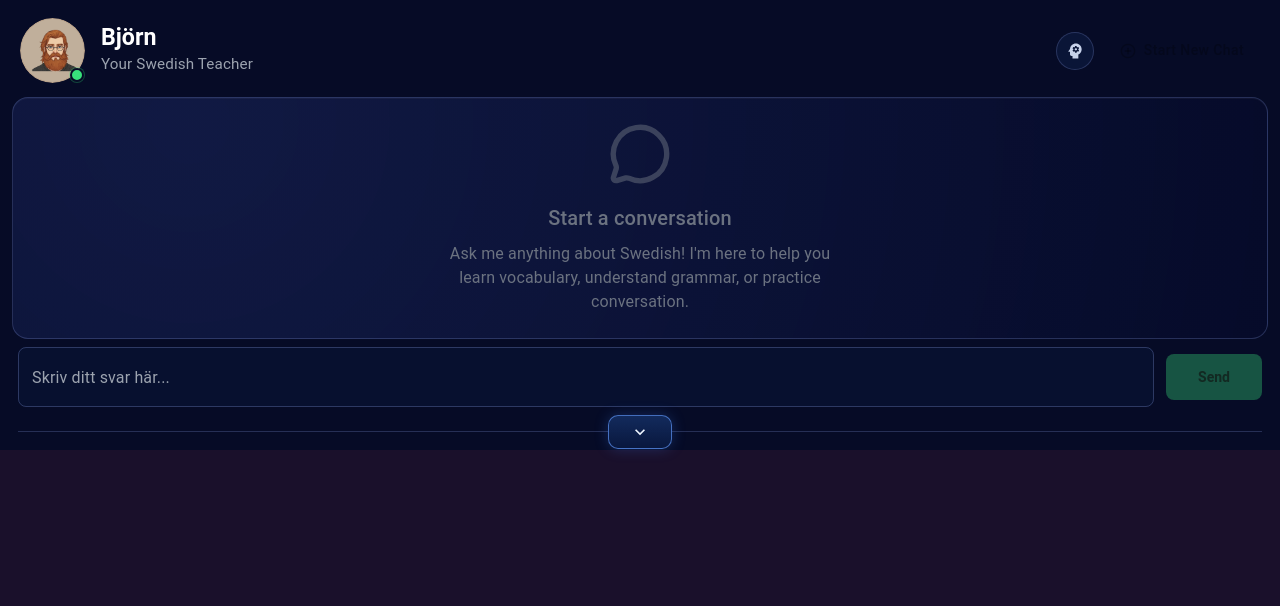
ChatView › expands teacher chat controls when toggled
Step 1. Click the button named "chat controls" → {"x": 640, "y": 432}, box left=608, top=415, right=672, bottom=449
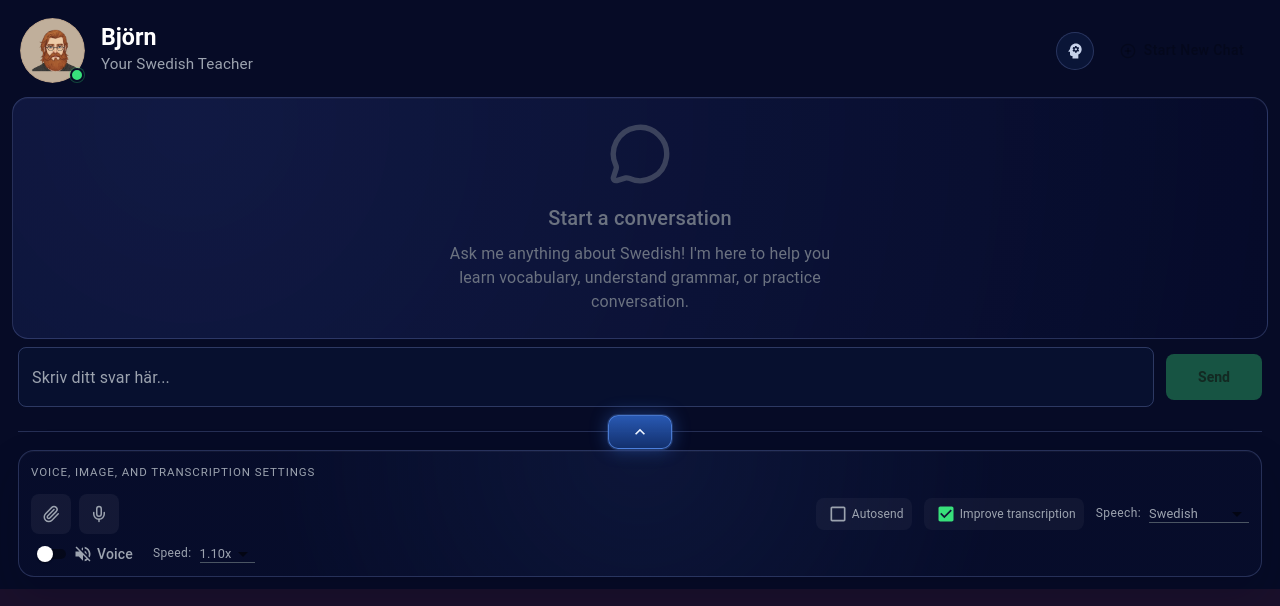
Now the button named "chat controls" is expanded, box left=608, top=415, right=672, bottom=449
Now the dropdown named "speech language" is shown, box left=1149, top=506, right=1198, bottom=521
Now the text "Autosend" is shown, box left=852, top=505, right=904, bottom=523
